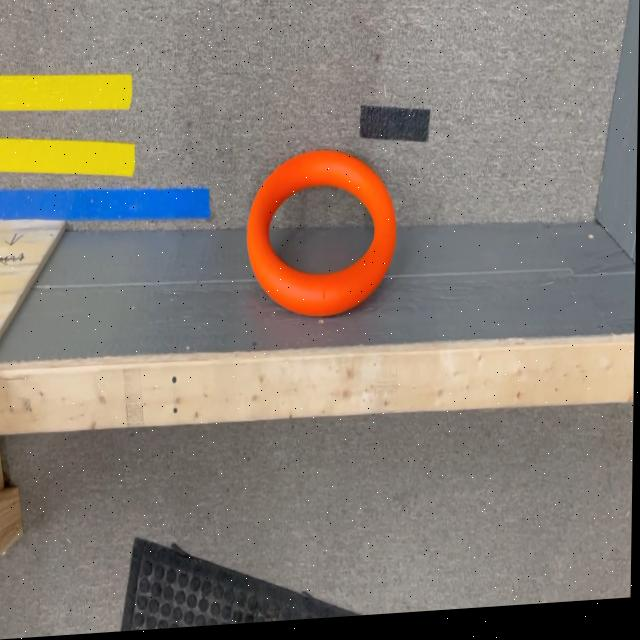note: (247, 153, 399, 326)
